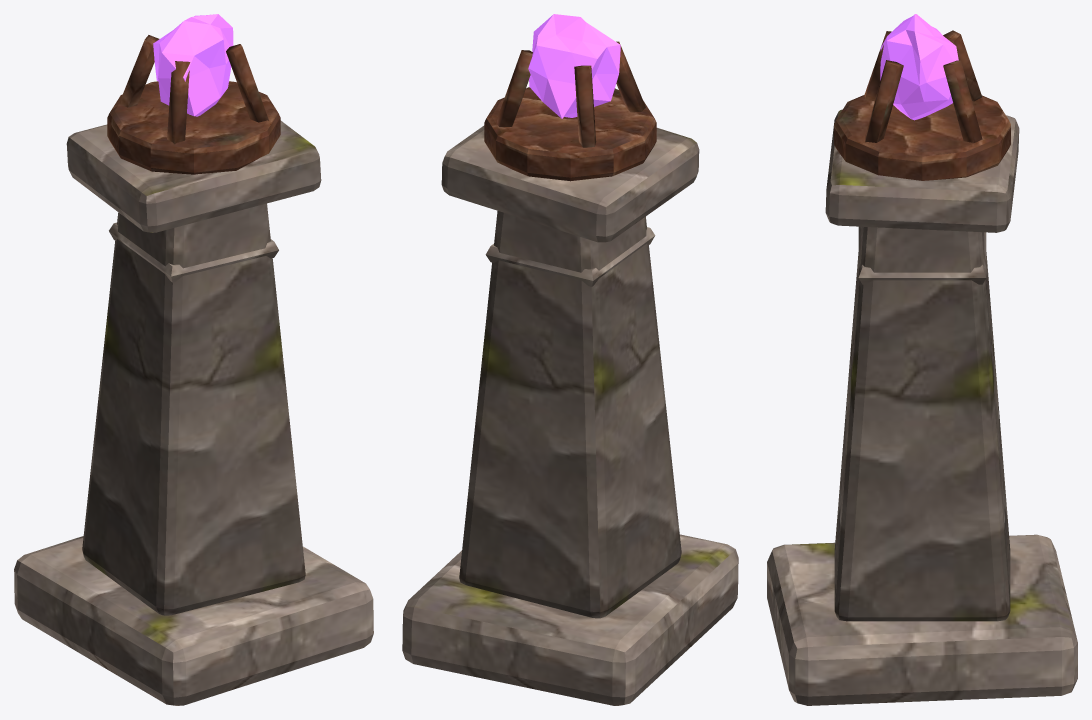
Rendered from gem_stand.glb.
3 renders of one model, left to right at view 1: azimuth 30°, elevation 25°; view 2: azimuth 150°, elevation 25°; view 3: azimuth 270°, elevation 25°, orthographic. The views are drawn at different scales.
Visible parts, largest first — view 1: model; view 2: model; view 3: model.
Boxes of the visible parts, <box> form: model: <box>14,14,373,705</box>; model: <box>402,14,738,705</box>; model: <box>767,14,1077,705</box>.
Bounding box in the file's own units: 0.3232 × 0.7952 × 0.3508.
4 materials, 3 textured.
